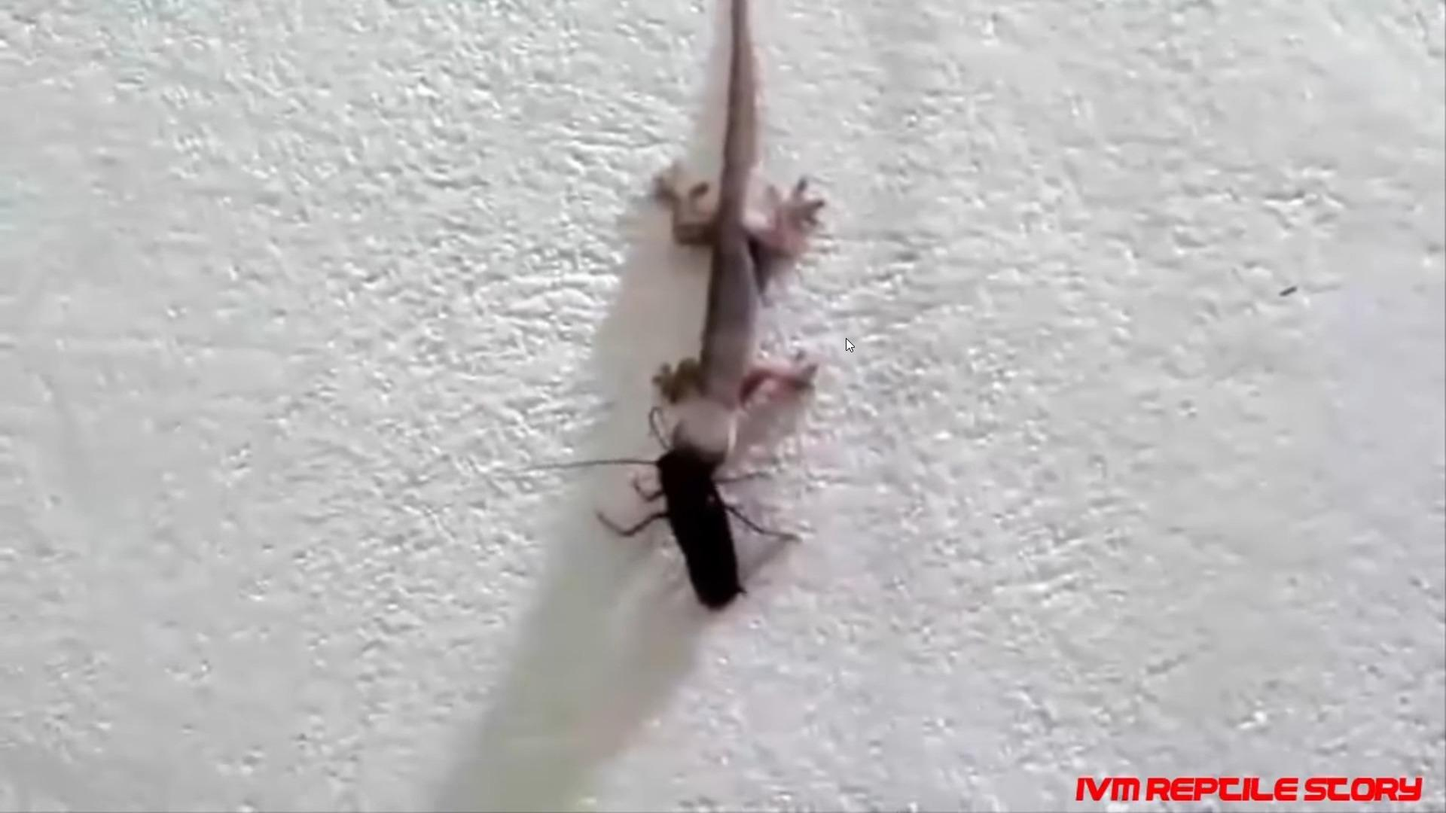cockroach: (628, 458, 762, 604)
lizard: (644, 84, 817, 475)
